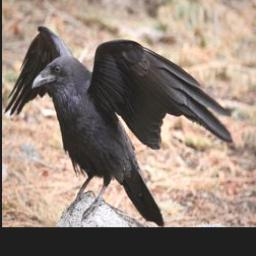Crow: (4, 23, 236, 224)
